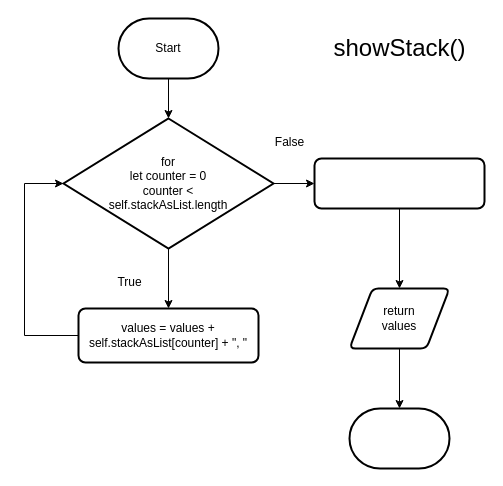
Image size: 503x486. Some labels were removed from this diagram. The shapes that lost their labels are listed below. From the top down, each one's centre as x and y in pixels, then its label:
(399,183): values = values.substring(0, values.length-2)
(399,438): Stop
